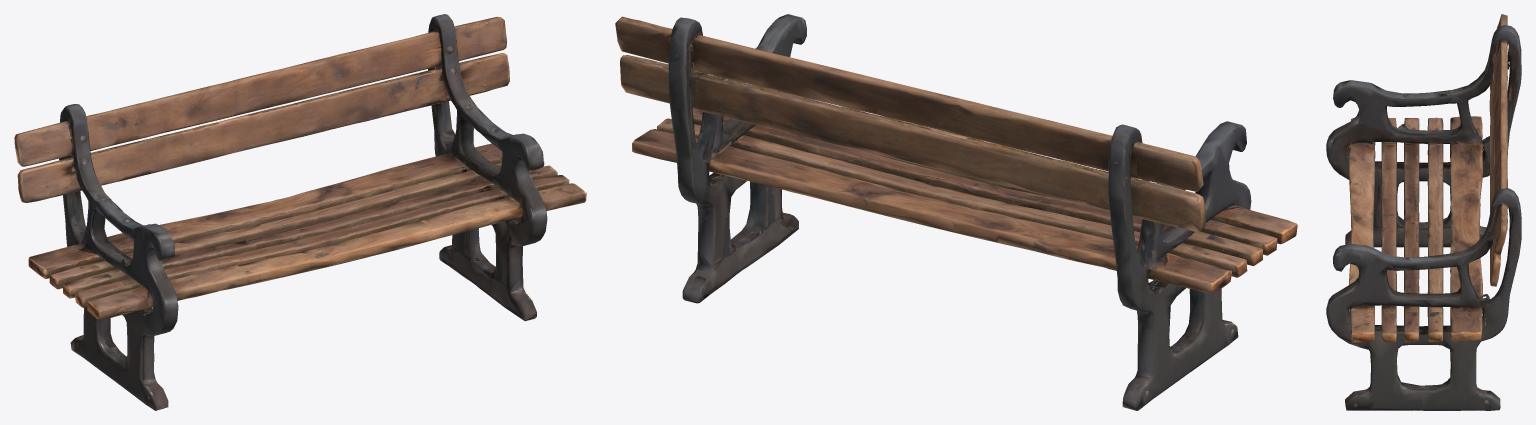
Rendered from banco-de-praca.glb.
3 renders of one model, left to right at view 1: azimuth 30°, elevation 25°; view 2: azimuth 150°, elevation 25°; view 3: azimuth 270°, elevation 25°, orthographic. The views are drawn at different scales.
Size of the model in its own units: 1.9 by 0.895 by 0.7265.
1 material, 1 textured.
